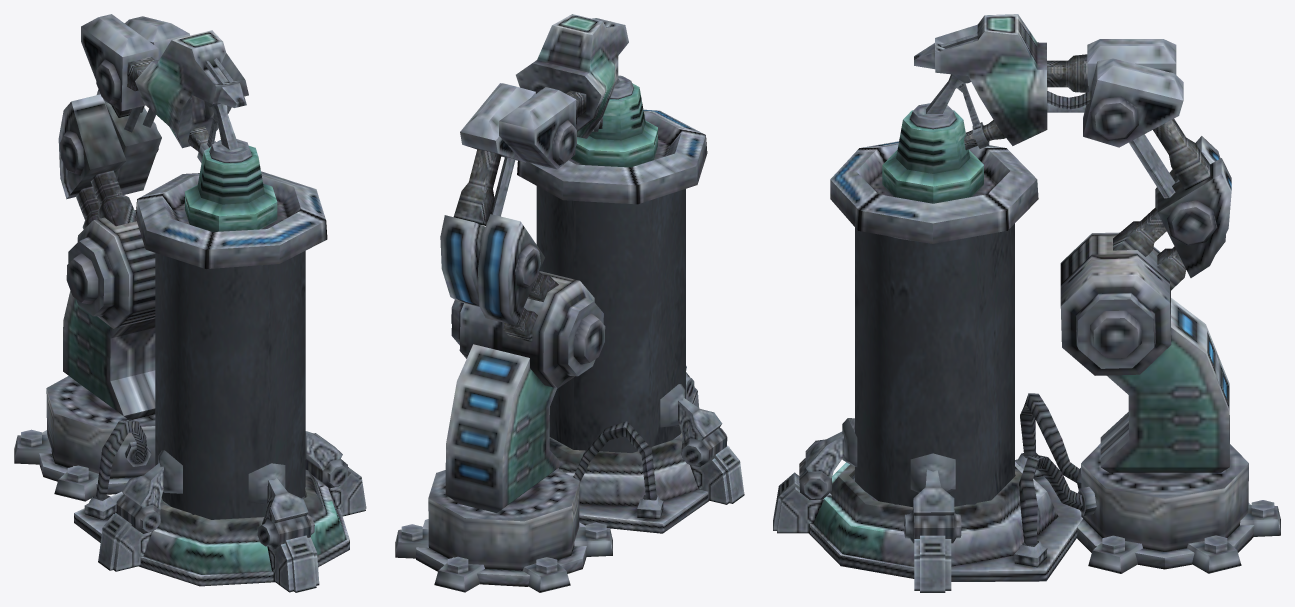
The model's file is SM_EN_1002_kongzhitai02.FBX.
3 renders of one model, left to right at view 1: azimuth 30°, elevation 25°; view 2: azimuth 150°, elevation 25°; view 3: azimuth 270°, elevation 25°, orthographic. The views are drawn at different scales.
Parts seen in each view (by area): view 1: SM_EN_1002_kongzhitai02; view 2: SM_EN_1002_kongzhitai02; view 3: SM_EN_1002_kongzhitai02.
Boxes of the visible parts, <box> form: SM_EN_1002_kongzhitai02: <box>14,14,366,592</box>; SM_EN_1002_kongzhitai02: <box>395,14,744,592</box>; SM_EN_1002_kongzhitai02: <box>773,14,1280,592</box>.
Size of the model in its own units: 75.08 by 133 by 121.
